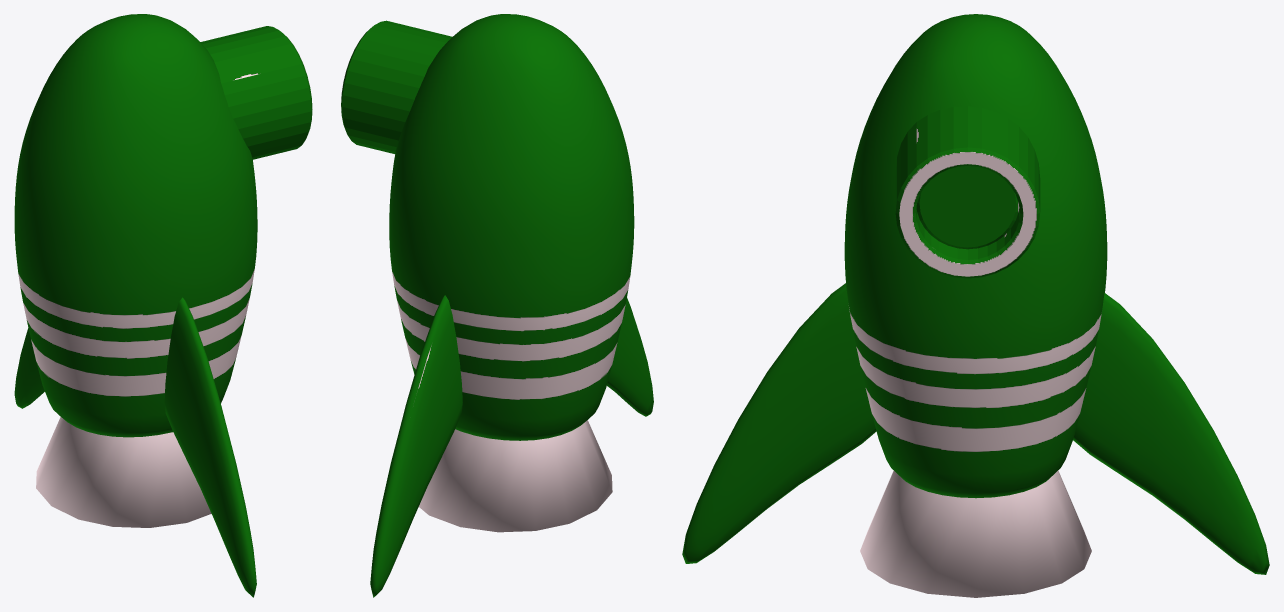
The model's file is GreenShip62.fbx.
3 views of the same model, side by side, from view 1: azimuth 30°, elevation 25°; view 2: azimuth 150°, elevation 25°; view 3: azimuth 270°, elevation 25° (orthographic). The views are drawn at different scales.
Parts seen in each view (by area): view 1: Cylinder.006; view 2: Cylinder.006; view 3: Cylinder.006.
Boxes of the visible parts, left/top/right/bottom form: Cylinder.006: left=14, top=14, right=312, bottom=597; Cylinder.006: left=341, top=14, right=653, bottom=597; Cylinder.006: left=682, top=14, right=1269, bottom=597.
Bounding box in the file's own units: 118 × 219 × 213.
Materials: 1 (1 with a texture image).
